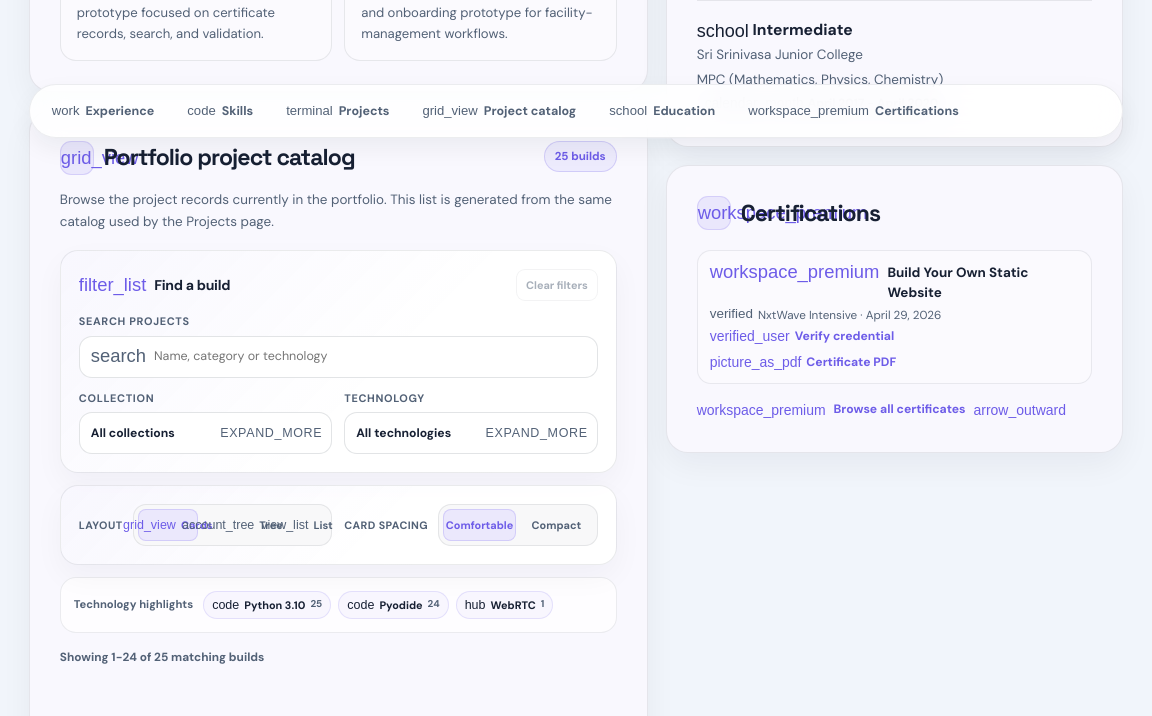
Scenario: ResumePage › filters project catalog by technology and displays its tree layout
(page scrolled)
Type "WebRTC" into the search field named "Search portfolio projects". click: (370, 356)
box: [154,336,586,376]
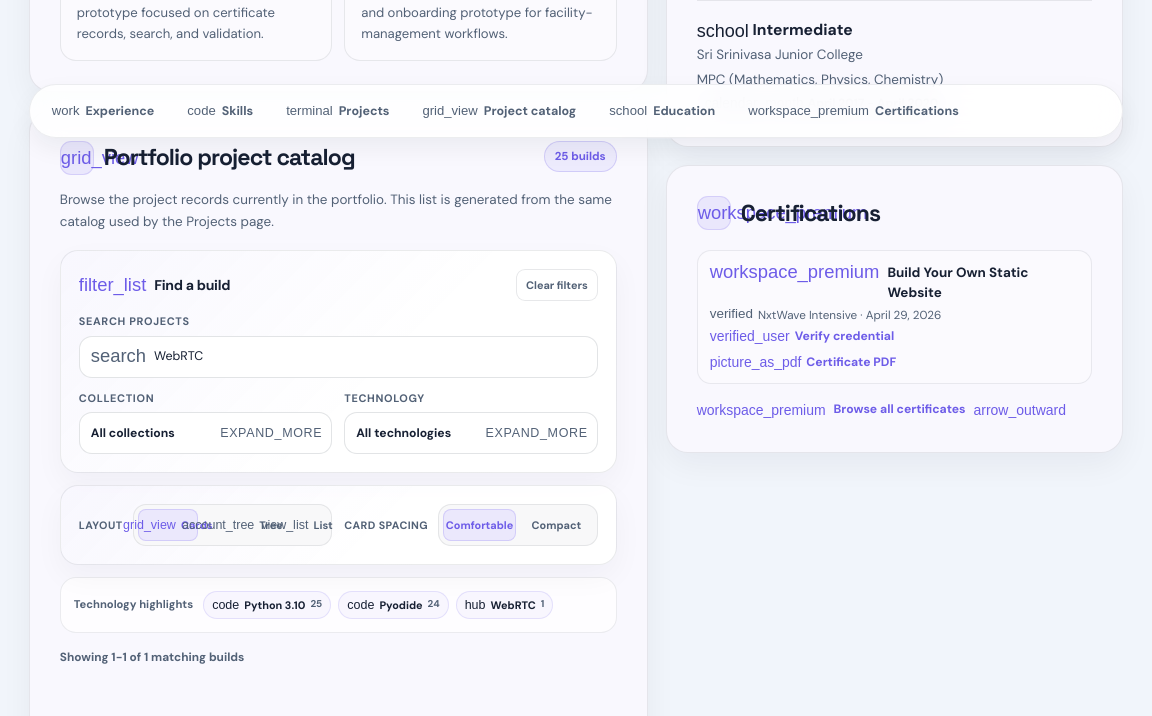
expect the text "Showing 1-1 of 1 matching builds" is shown: met, box [60,649,244,665]
Click the button "Tree". click: click(232, 525)
box: [202,509,263,541]
(page scrolled)
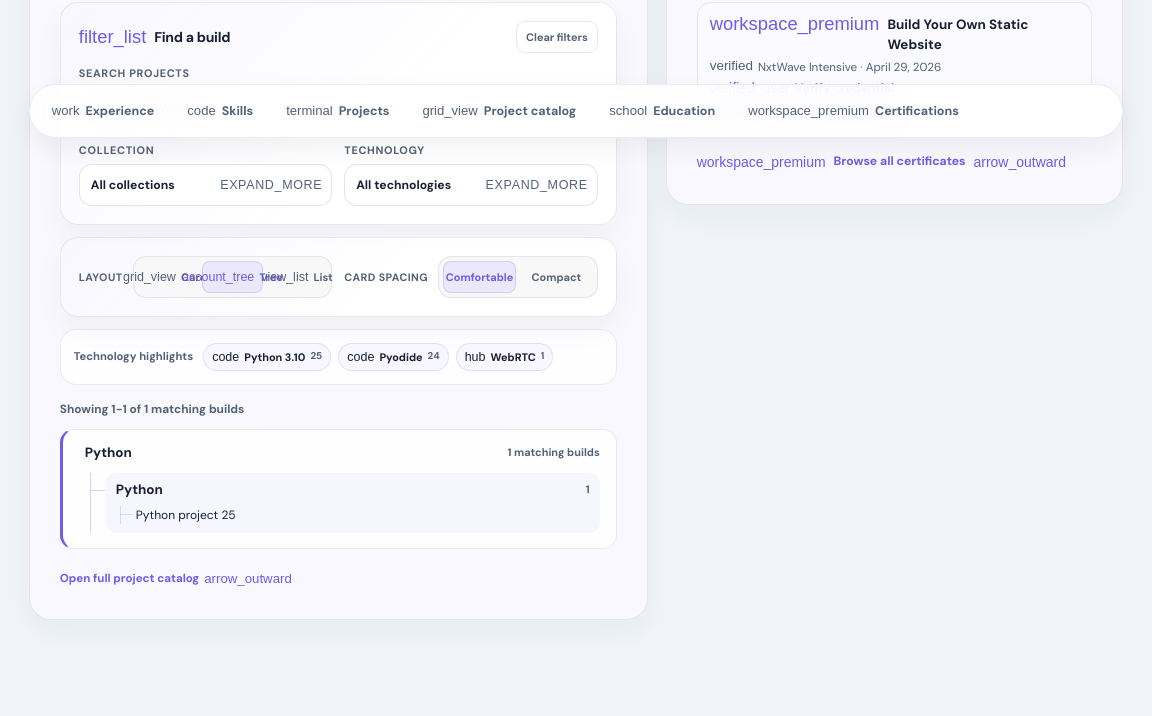
expect the element named "Python project branch" is shown: met, box [60,429,617,549]
